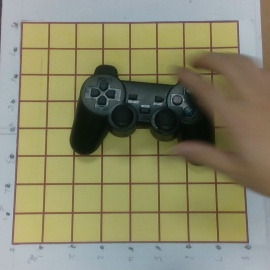remote: (69, 64, 216, 168)
